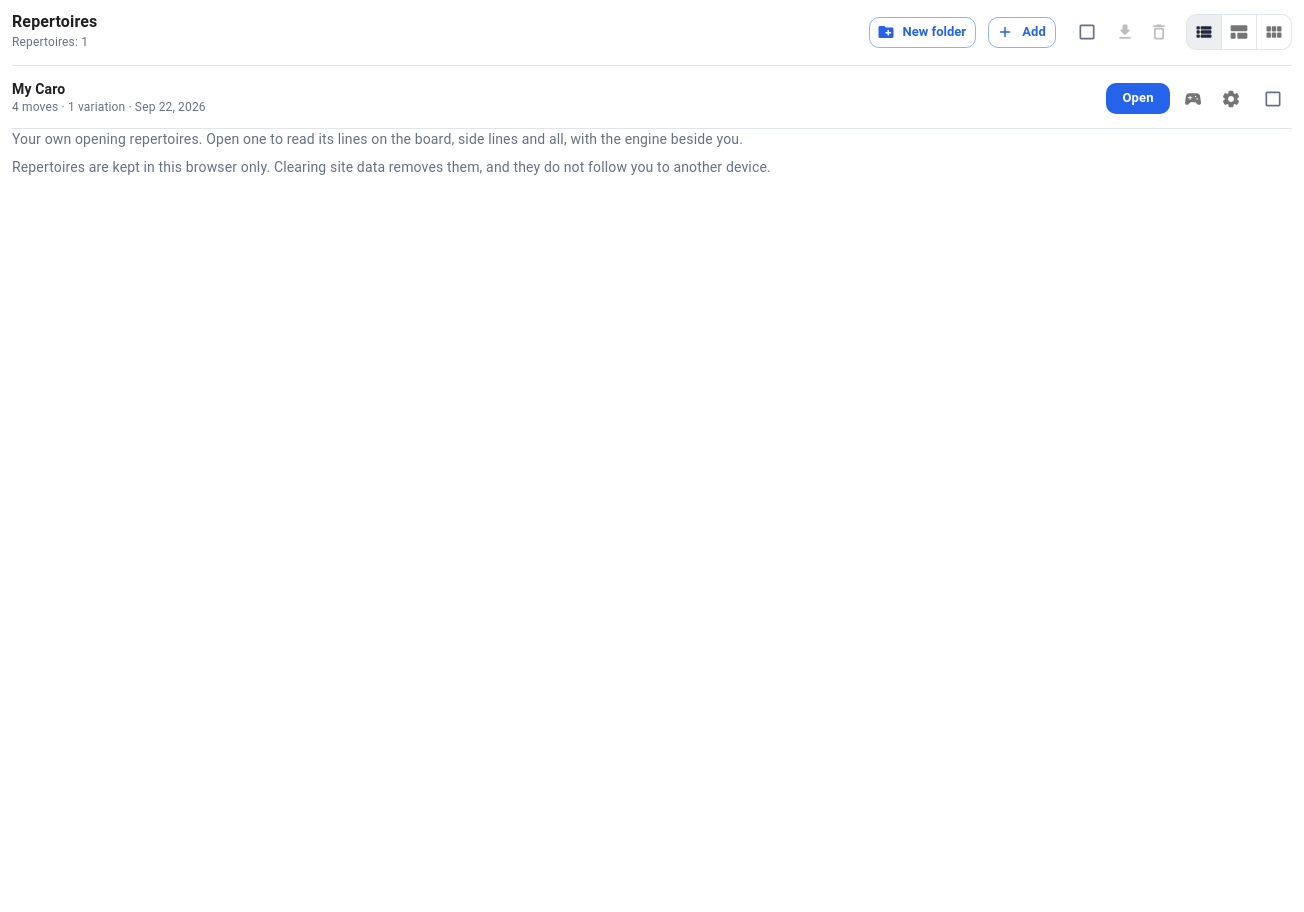
Test: a repertoire's settings screen › drops the draft on Cancel
Click the link with test id "repertoires-settings-a" at (1231, 99), box [1221,89,1241,109]
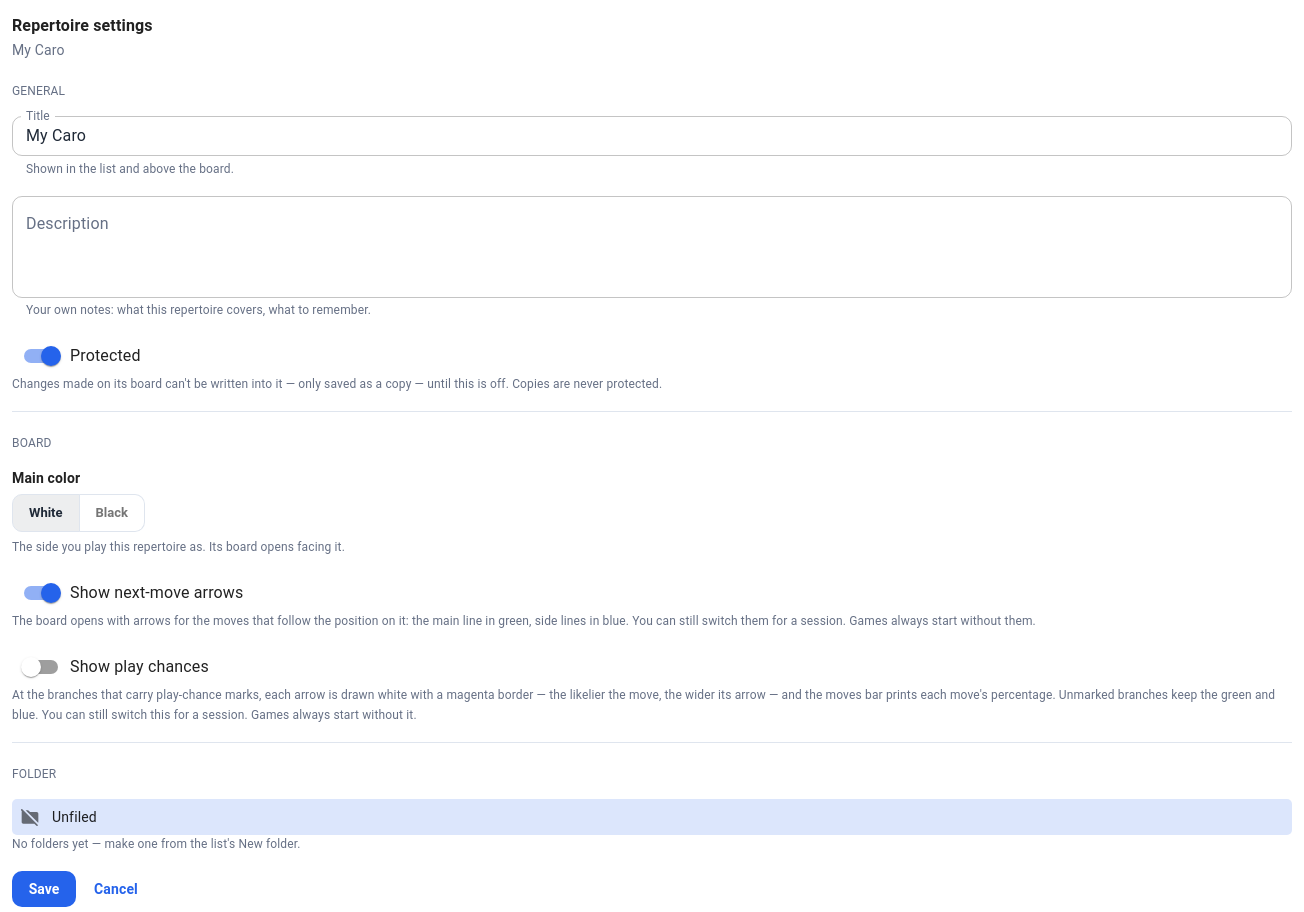
Replace the text in the field with test id "repertoire-settings-name" with "Something else" at (652, 136), box [12,116,1292,156]
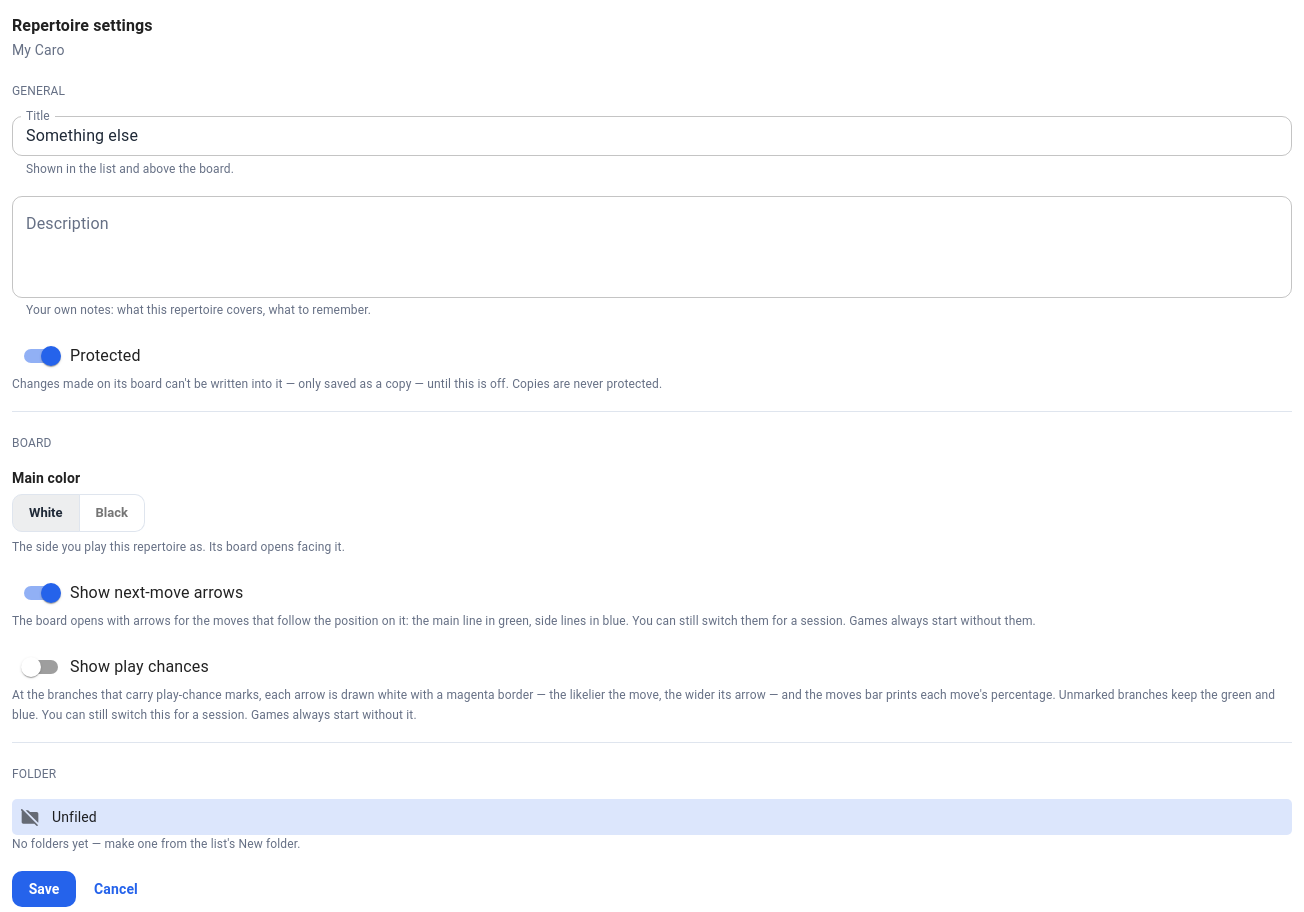
Click the link with test id "repertoire-settings-cancel" at (116, 889), box [94,881,138,897]
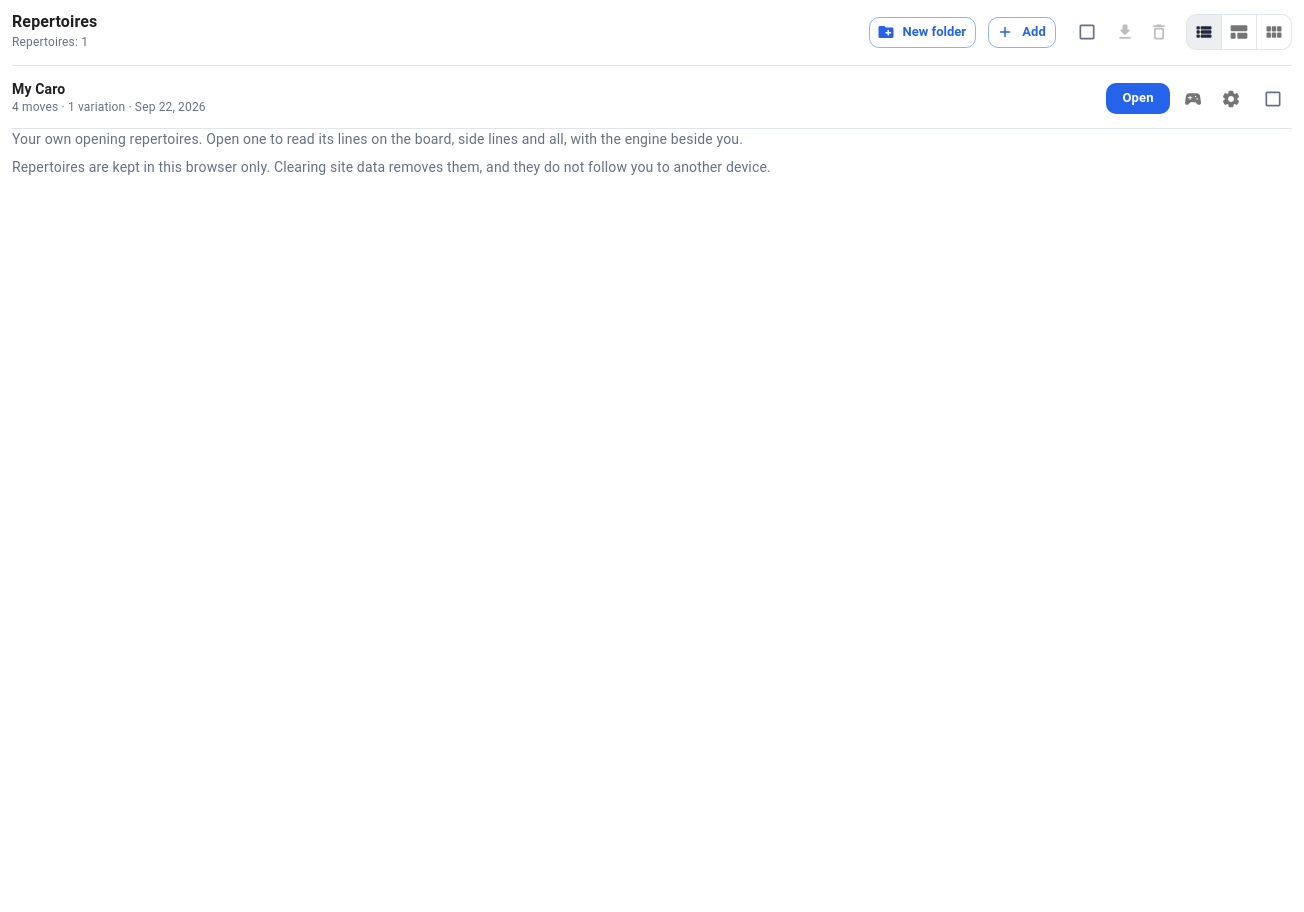
expect the element with test id "repertoires-screen" is shown: met, box [12,12,1292,129]
expect the heading "My Caro" is shown: met, box [12,81,65,97]
